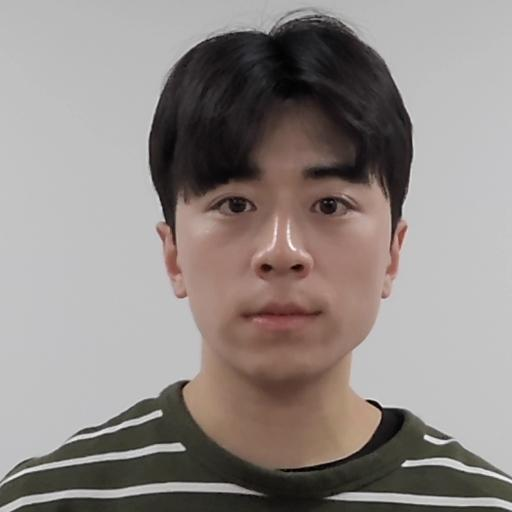no_glasses: (137, 10, 440, 397)
